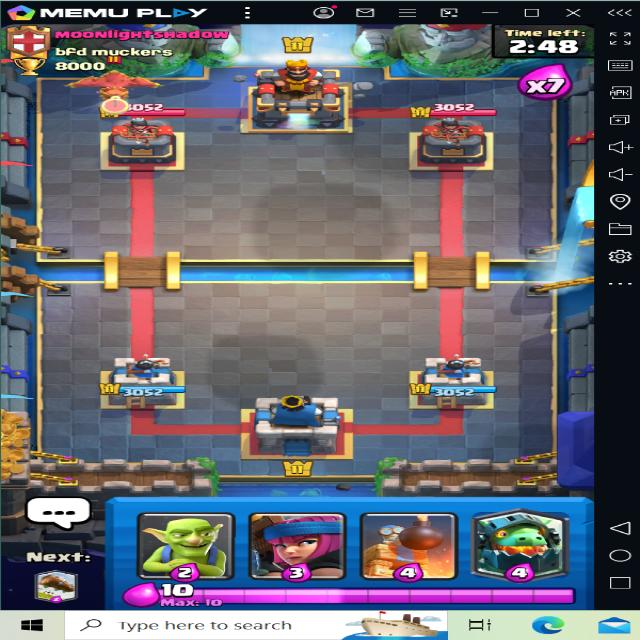phoenix: (61, 56, 175, 113)
